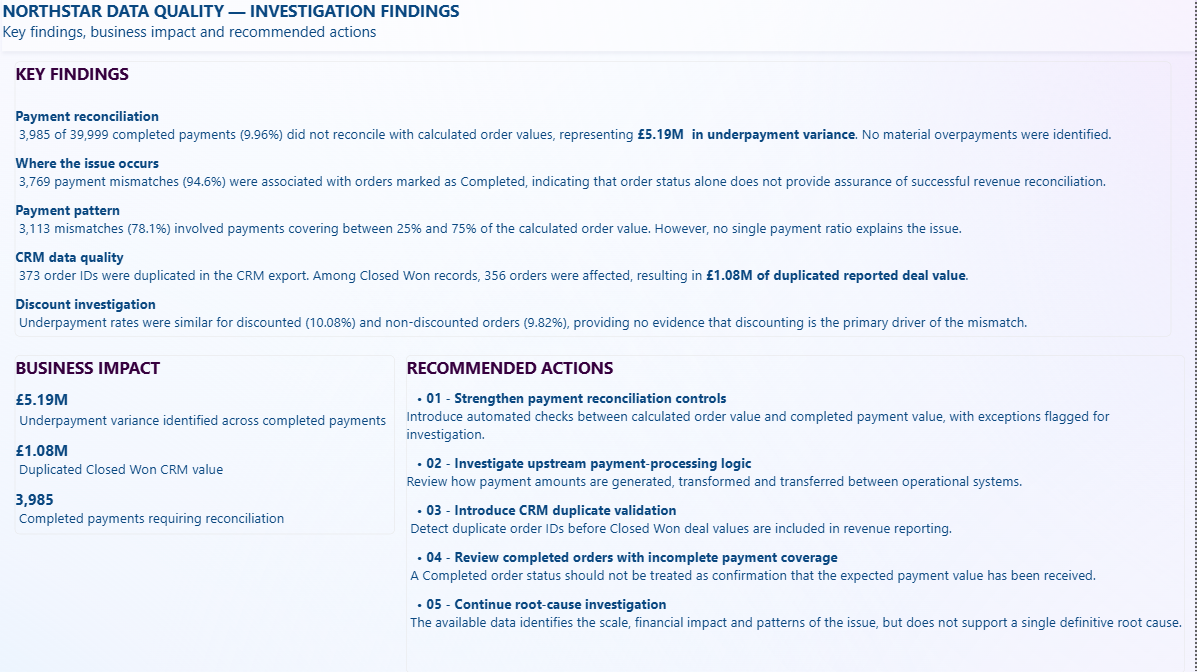

The dashboard page shown, as its layout file describes it:
{"tool":"powerbi","page":{"name":"Investigation Findings","canvas":[1920,1080],"ordinal":1},"visuals":[{"type":"textbox","box":[10,0,1910,84],"z":0},{"type":"textbox","box":[30,100,1850,440],"z":1000},{"type":"textbox","box":[30,570,608,286],"z":2000},{"type":"textbox","box":[656,570,1246,510],"z":2001}]}

Visuals, with their boxes in screenshot pixels (x1, y1, x2, y2), scaled from the page's 1920x1080 canvas onto the 1197x672 screenshot:
textbox: bbox=(6, 0, 1196, 52)
textbox: bbox=(19, 62, 1172, 336)
textbox: bbox=(19, 355, 398, 533)
textbox: bbox=(409, 355, 1186, 671)
